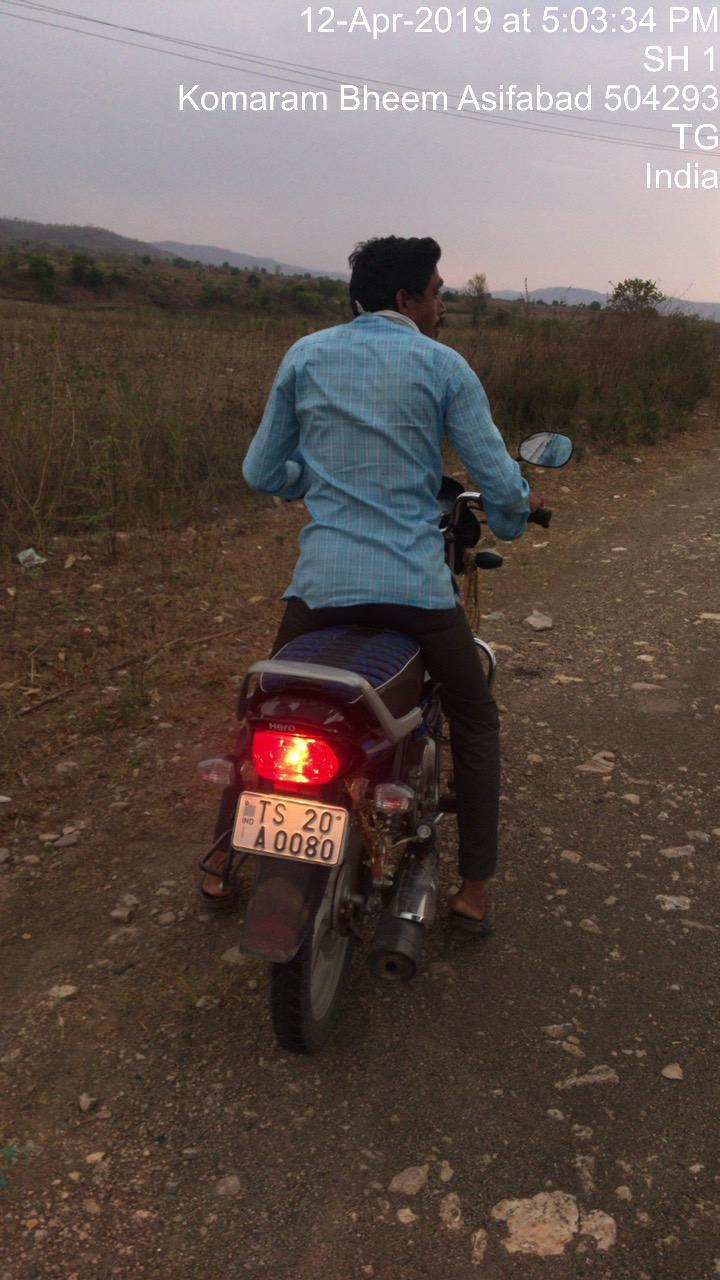plate: (221, 781, 358, 879)
